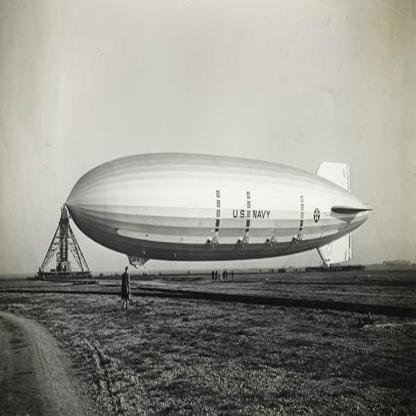Airship: (65, 150, 384, 275)
